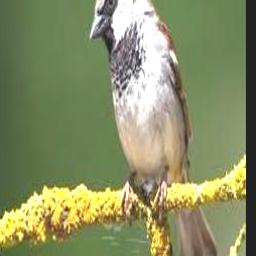Sparrow: (89, 0, 218, 256)
